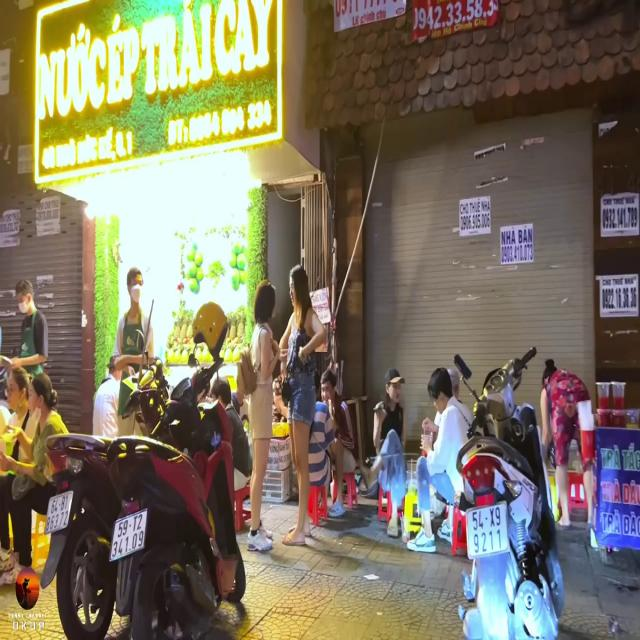bien_trang: (464, 505, 510, 561), (109, 510, 148, 560), (42, 489, 75, 536)
